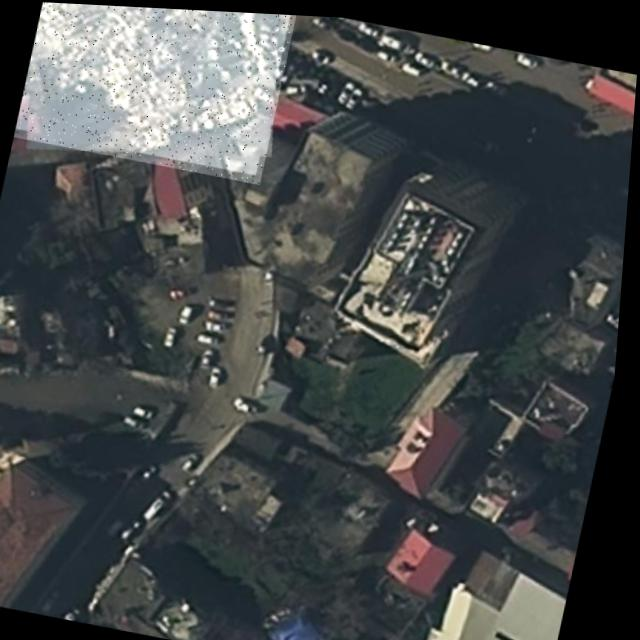Rubble: (13, 1, 296, 182)
